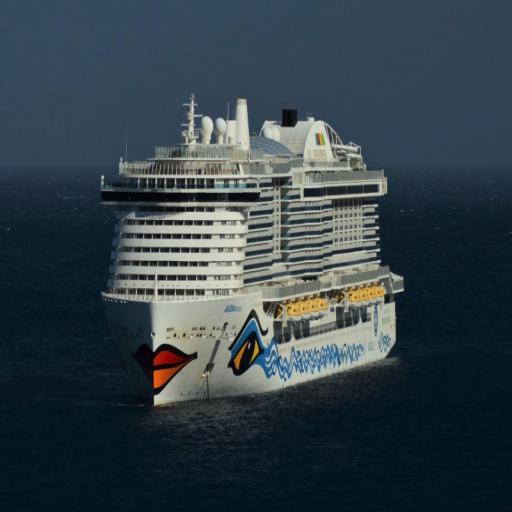cruises: (93, 91, 415, 416)
